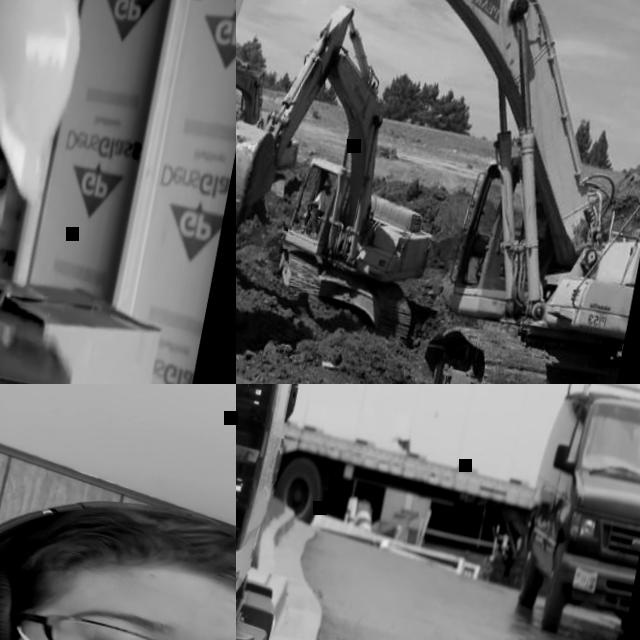Hardhat: (0, 476, 236, 639), (0, 0, 100, 207), (322, 178, 332, 187)
NO-Mask: (323, 189, 330, 196)
NO-Safety Vest: (316, 191, 331, 213)
Person: (0, 443, 236, 640), (0, 0, 101, 377), (302, 176, 336, 233)
Safety Cone: (350, 499, 375, 535)
machinery: (236, 0, 640, 384), (236, 0, 475, 349)
vehicle: (236, 384, 406, 640), (505, 384, 640, 640)
